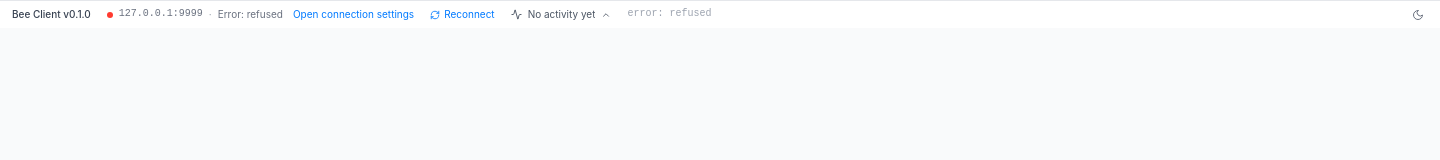
Scenario: <StatusBar> reconnect button › hides the Reconnect button once refresh transitions to Connected
Click the button with test id "statusbar-reconnect".
click(462, 15)  # box x1=430 y1=7 x2=495 y2=22
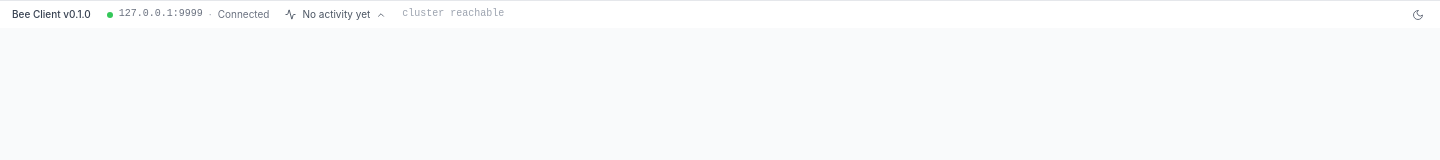
Expected: the button with test id "statusbar-reconnect" is gone
